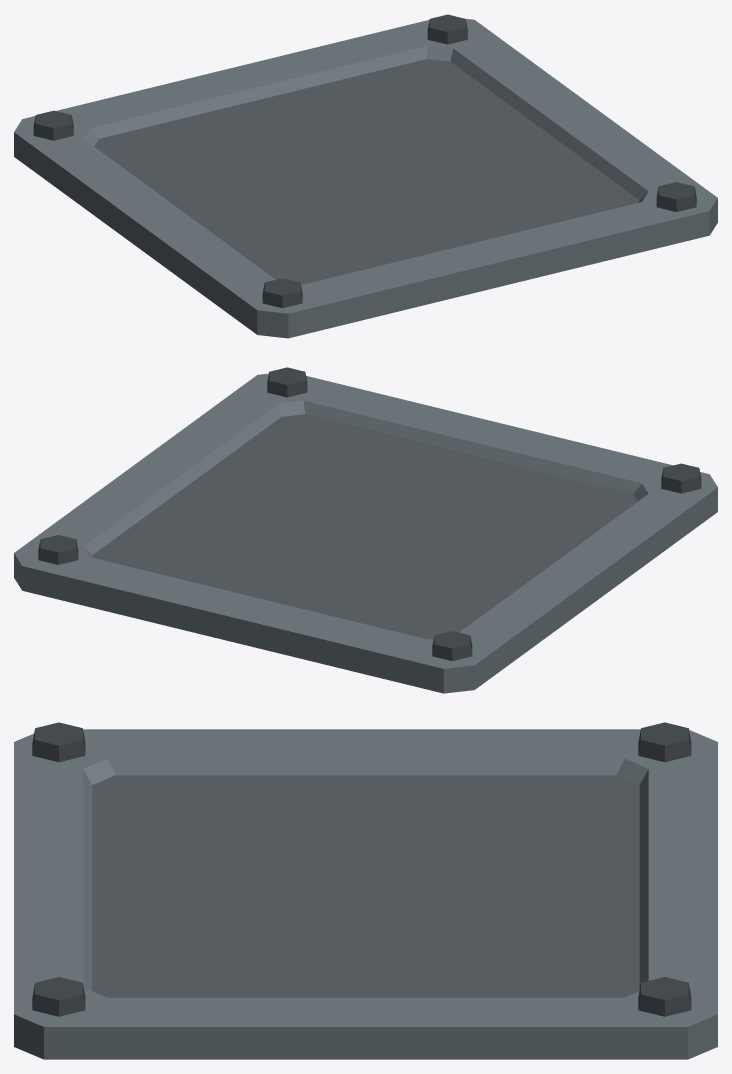
Rendered from SM_Prop_MetalPlate_01.fbx.
3 renders of one model, top to bottom at view 1: azimuth 30°, elevation 25°; view 2: azimuth 150°, elevation 25°; view 3: azimuth 270°, elevation 25°, orthographic. The views are drawn at different scales.
Visible parts, largest first — view 1: SM_Prop_MetalPlate_01; view 2: SM_Prop_MetalPlate_01; view 3: SM_Prop_MetalPlate_01.
Part boxes in pixels (box(x1,y1,x2,y2)): SM_Prop_MetalPlate_01: box(14, 14, 717, 338); SM_Prop_MetalPlate_01: box(14, 367, 717, 693); SM_Prop_MetalPlate_01: box(14, 722, 717, 1059).
Bounding box in the file's own units: 100 × 7.53 × 100.
